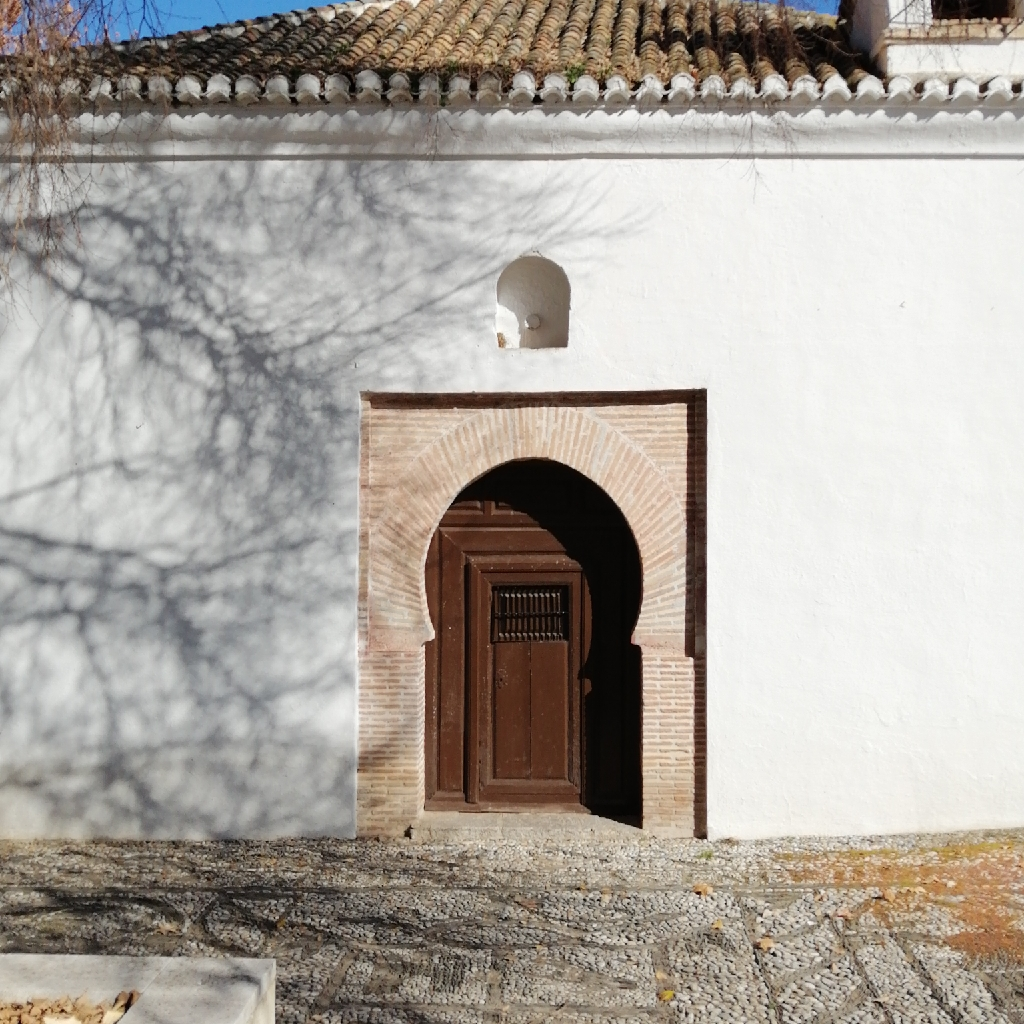arco-herradura: (400, 437, 655, 669)
